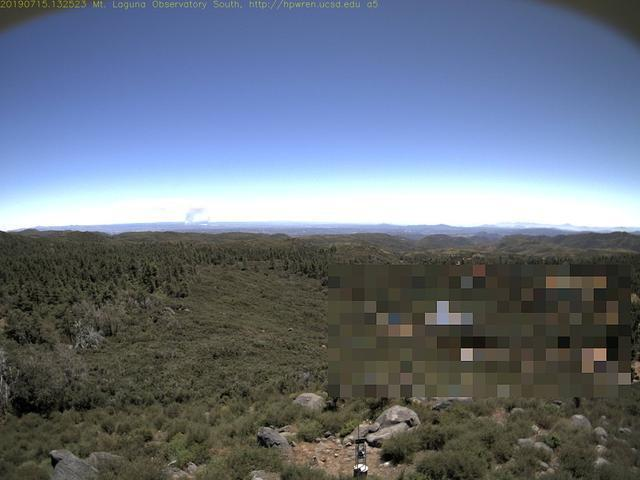smoke: (186, 206, 210, 227)
